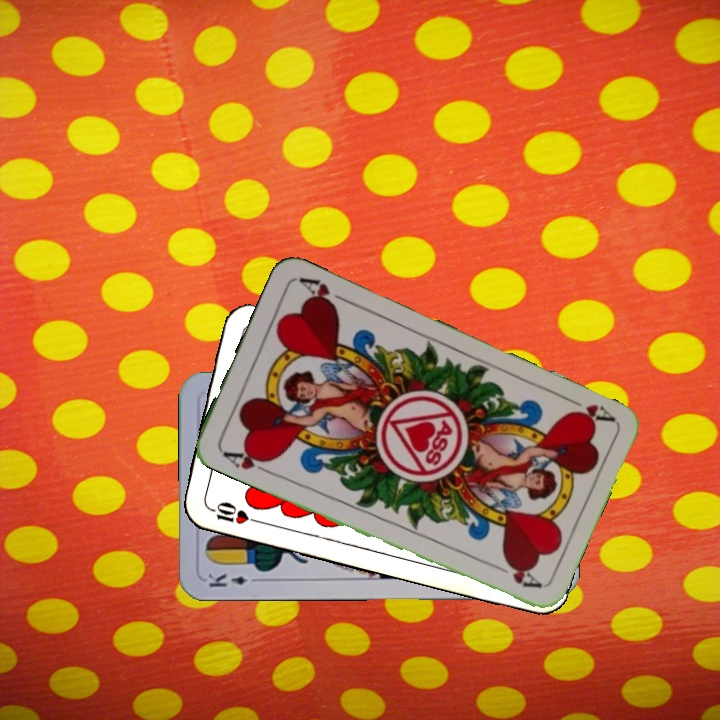EK: (204, 569, 263, 590)
H10: (203, 498, 261, 527)
HA: (560, 392, 616, 428), (219, 444, 274, 477)
